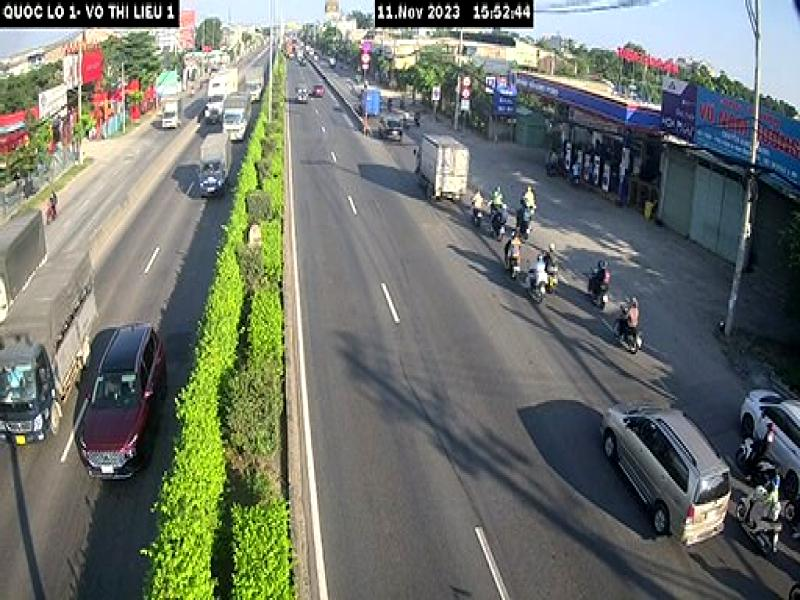truck: (2, 245, 102, 446), (412, 129, 469, 208)
